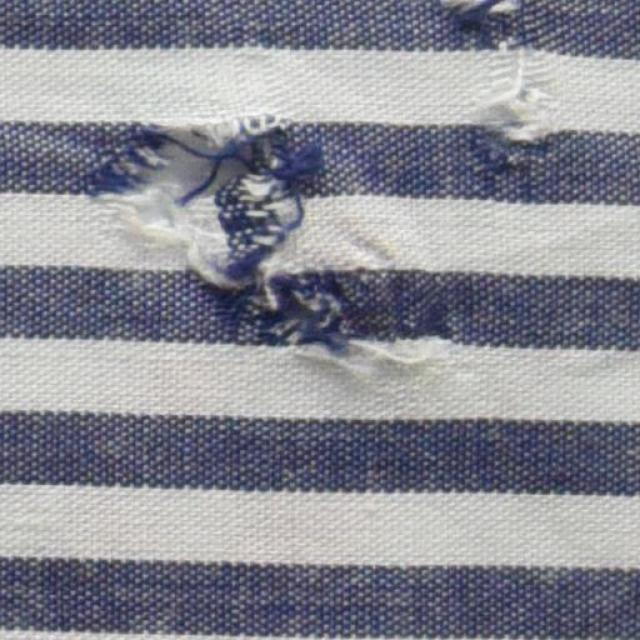cut: (88, 109, 294, 282), (478, 3, 546, 163), (254, 276, 360, 355)
